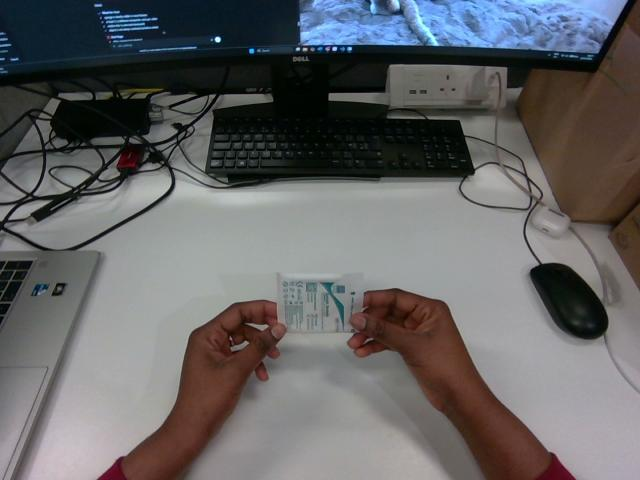gauze: (277, 273, 363, 332)
